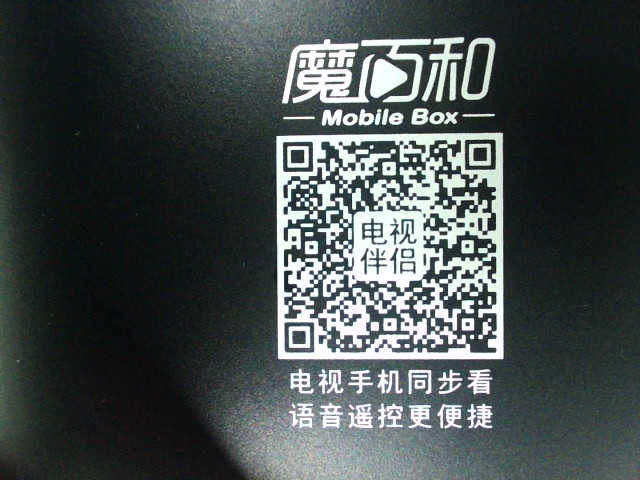AZ_MobileBox: (261, 27, 520, 431)
